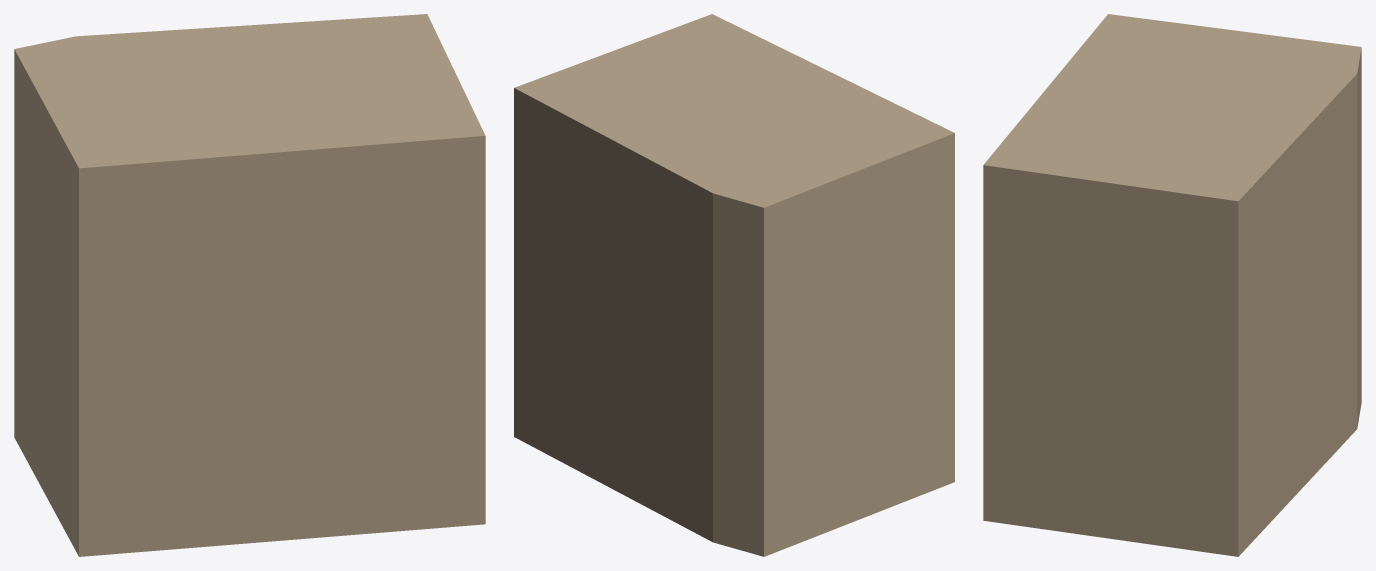
File: bld_99615914.dae
The picture shows the model from 3 angles, left to right: view 1: azimuth 30°, elevation 25°; view 2: azimuth 150°, elevation 25°; view 3: azimuth 270°, elevation 25°; orthographic projection. The views are drawn at different scales.
Parts seen in each view (by area): view 1: bld_99615914; view 2: bld_99615914; view 3: bld_99615914.
Boxes of the visible parts, bbox=[...] form: bld_99615914: bbox=[14, 14, 485, 556]; bld_99615914: bbox=[514, 14, 954, 556]; bld_99615914: bbox=[983, 14, 1361, 556].
Size of the model in its own units: 9.04 by 7.71 by 8.
